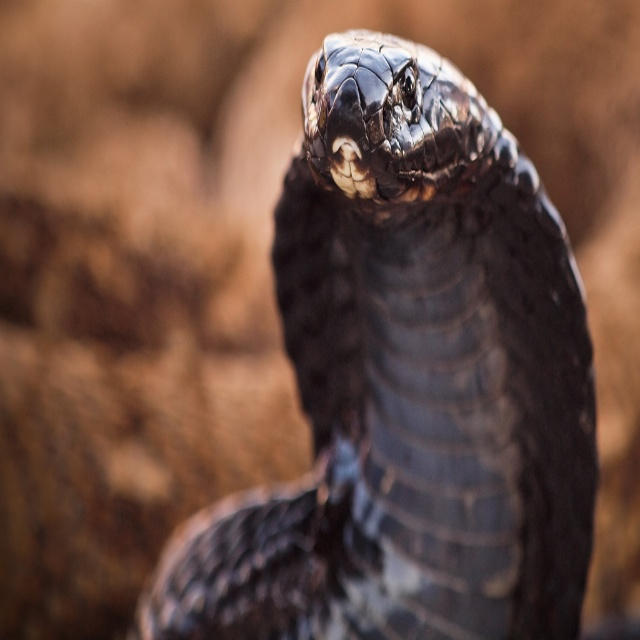Snake: (132, 31, 596, 639)
